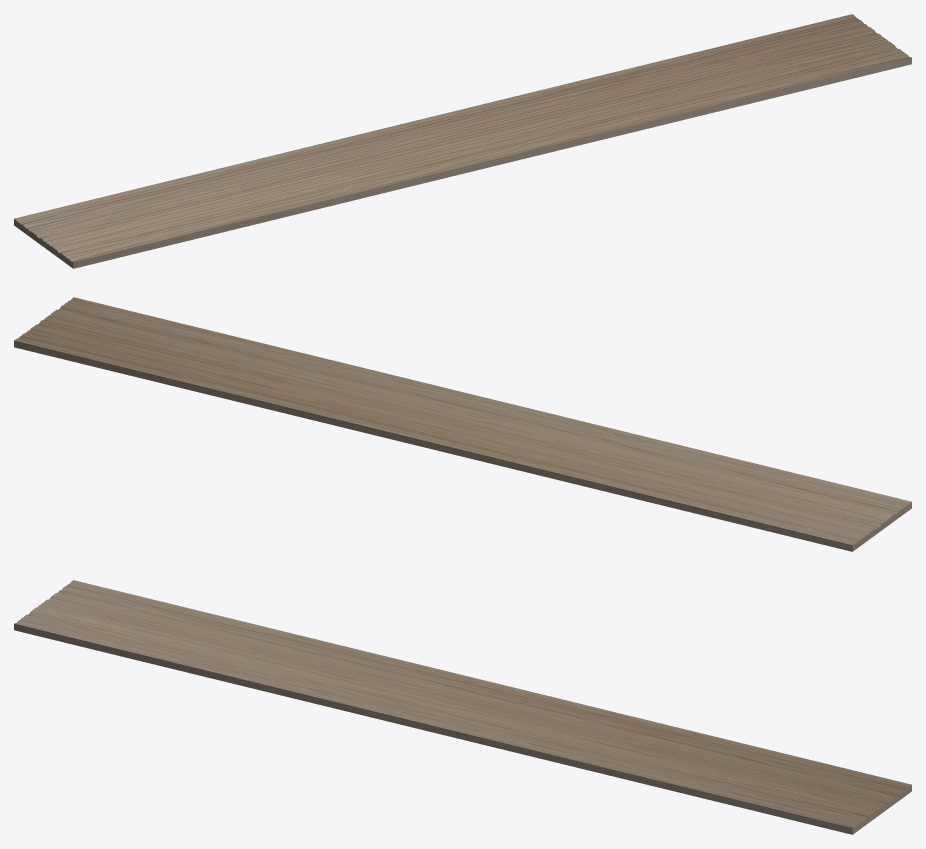
3 renders of one model, top to bottom at view 1: azimuth 30°, elevation 25°; view 2: azimuth 150°, elevation 25°; view 3: azimuth 330°, elevation 25°, orthographic.
Parts seen in each view (by area): view 1: h6; view 2: h6; view 3: h6.
Boxes of the visible parts, box(x1,y1,x2,y2) form: h6: box(14, 14, 911, 268); h6: box(14, 297, 911, 551); h6: box(14, 580, 911, 834).
Size of the model in its own units: 2526 by 19.44 by 310.
1 material, 1 textured.
